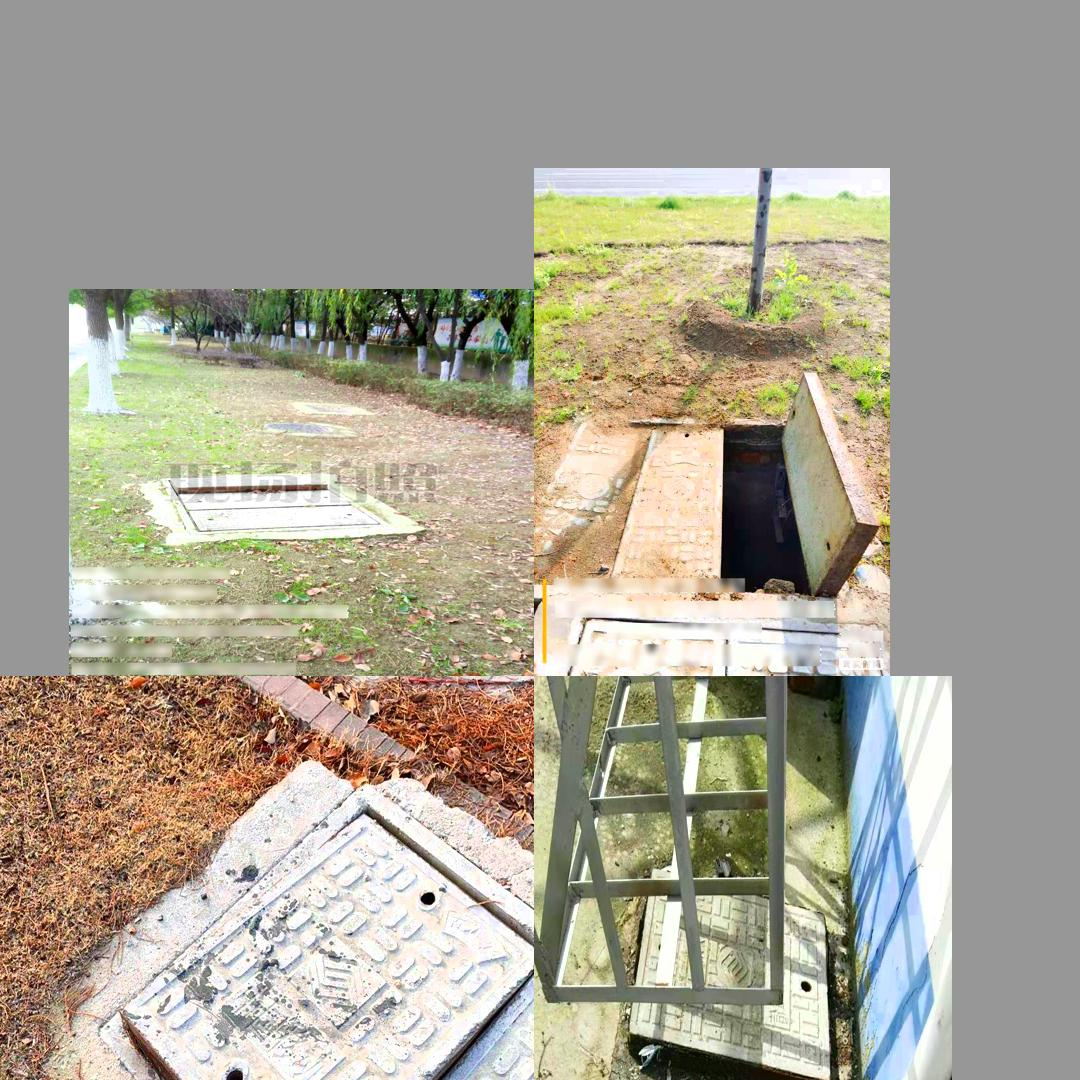good: (263, 421, 347, 437), (299, 402, 368, 416)
uncovered: (97, 784, 534, 1080), (537, 375, 886, 614), (572, 874, 841, 1080), (158, 474, 392, 536)
